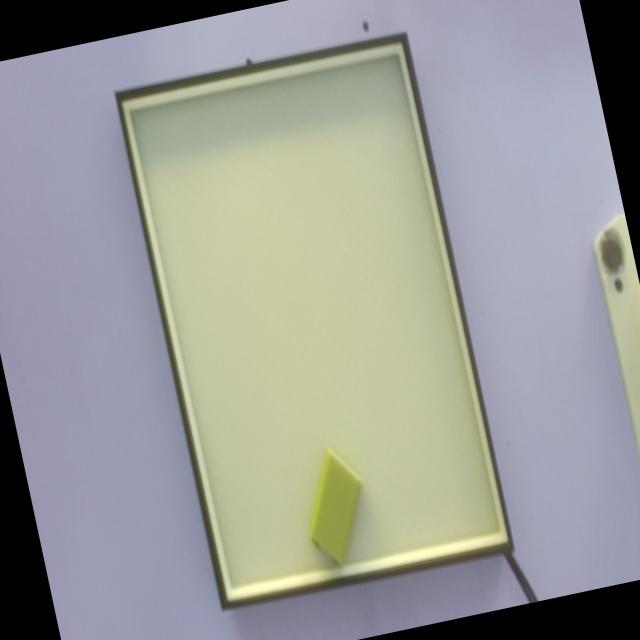bateria: (307, 445, 363, 568)
mesa: (114, 31, 514, 610)
